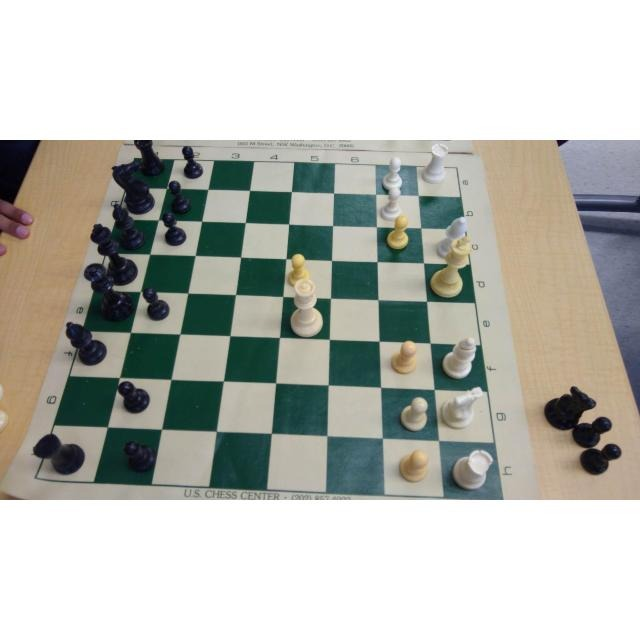black-bishop: (61, 319, 110, 366), (109, 202, 147, 252)
black-king: (88, 222, 140, 286)
black-knight: (107, 158, 158, 215)
black-pawn: (122, 438, 158, 476), (115, 378, 150, 415), (140, 286, 172, 320), (178, 144, 205, 180), (166, 180, 192, 216), (162, 213, 188, 246)
black-queen: (80, 260, 135, 323)
black-rook: (27, 430, 89, 480), (131, 140, 166, 178)
white-bishop: (440, 335, 478, 382), (433, 215, 469, 260)
white-king: (429, 234, 473, 301)
white-knight: (439, 387, 483, 431)
white-pawn: (397, 447, 429, 484), (389, 338, 419, 377), (399, 395, 429, 433), (284, 253, 311, 289), (379, 155, 405, 191), (378, 185, 403, 221), (386, 215, 410, 251)
white-queen: (287, 277, 325, 339)
white-rook: (450, 448, 495, 492), (419, 141, 451, 186)
